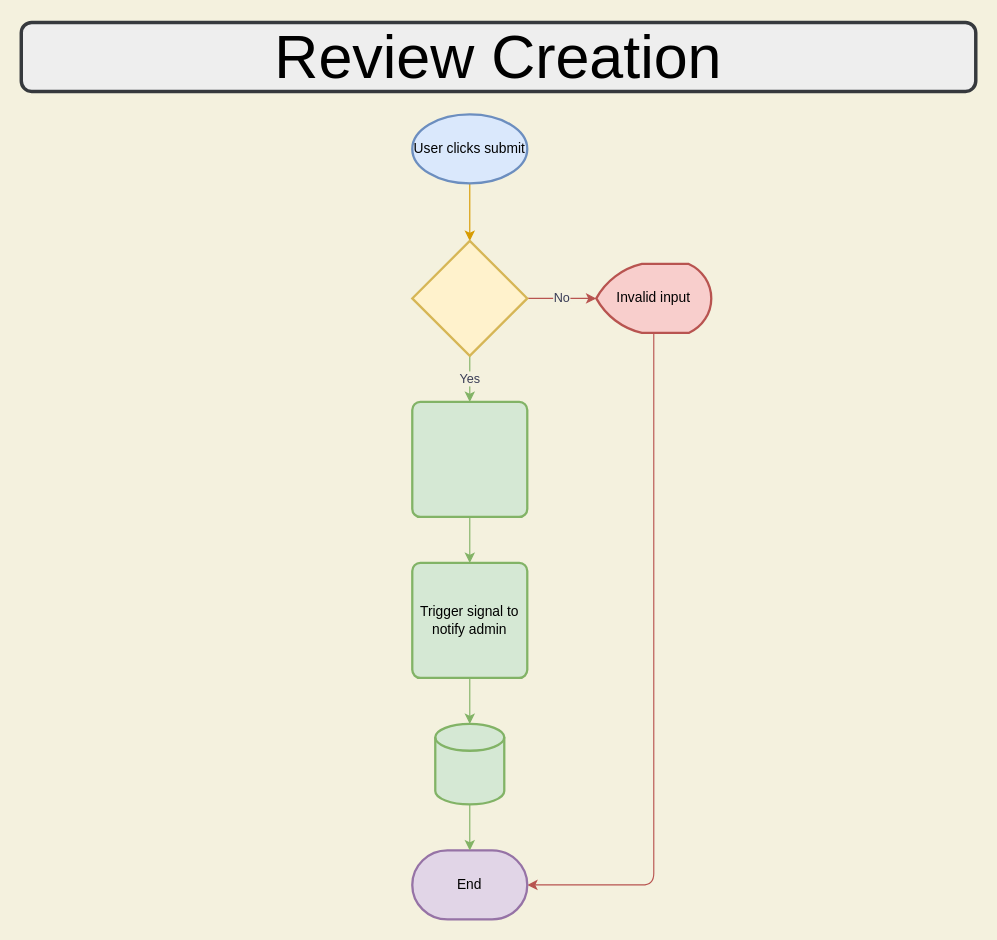
Image size: 997x940. Some labels were removed from this diagram. The centre of each missing label's shape, as x and y in pixels:
Create Review object: pixel 469 763
Is input valid?: pixel 469 297
Trigger signal to notify reviewers: pixel 469 459
